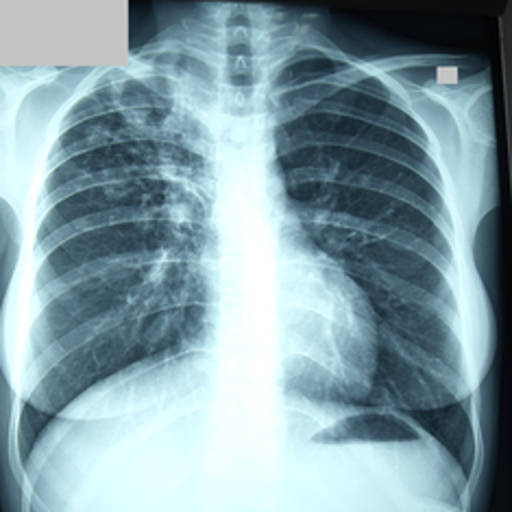TB: (95, 71, 192, 233)
